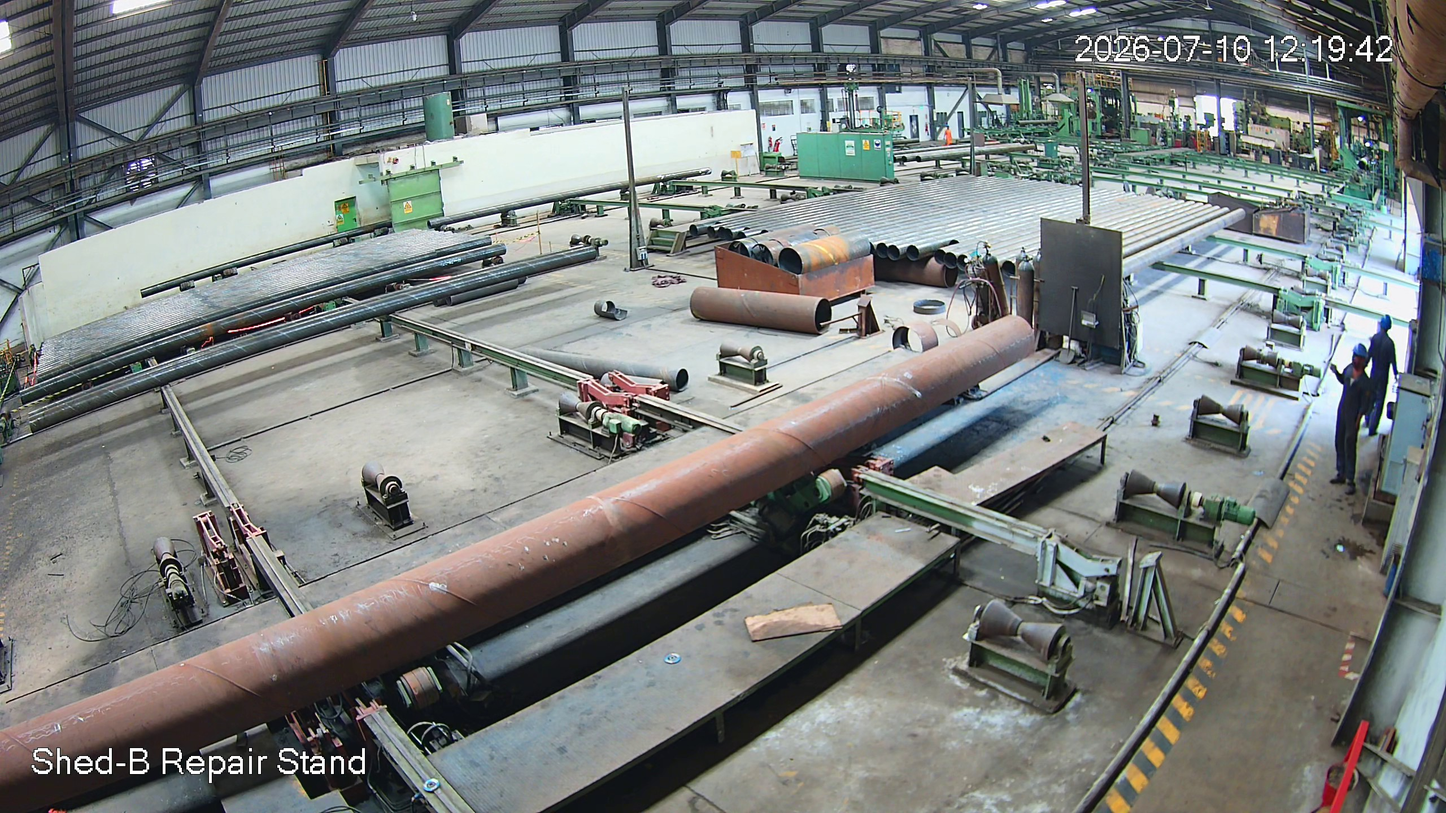Helmet: (1346, 342, 1373, 375), (1373, 316, 1404, 336)
Person: (1332, 345, 1372, 493), (1363, 315, 1398, 446)
